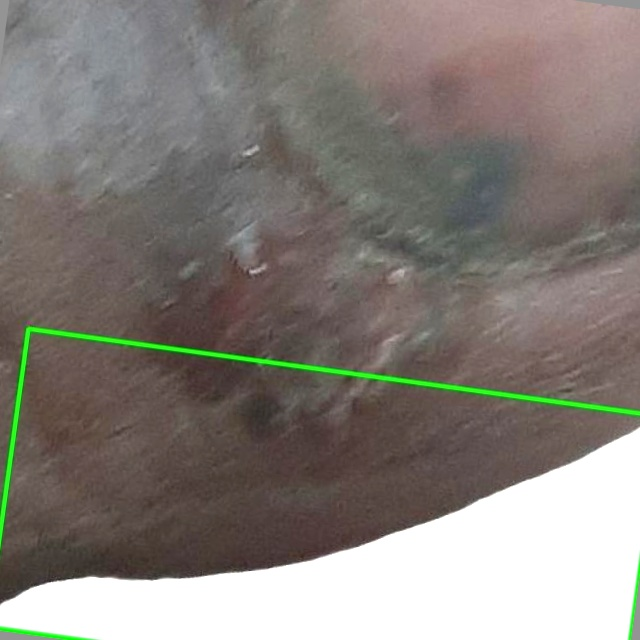Eczema: (0, 329, 639, 639)
